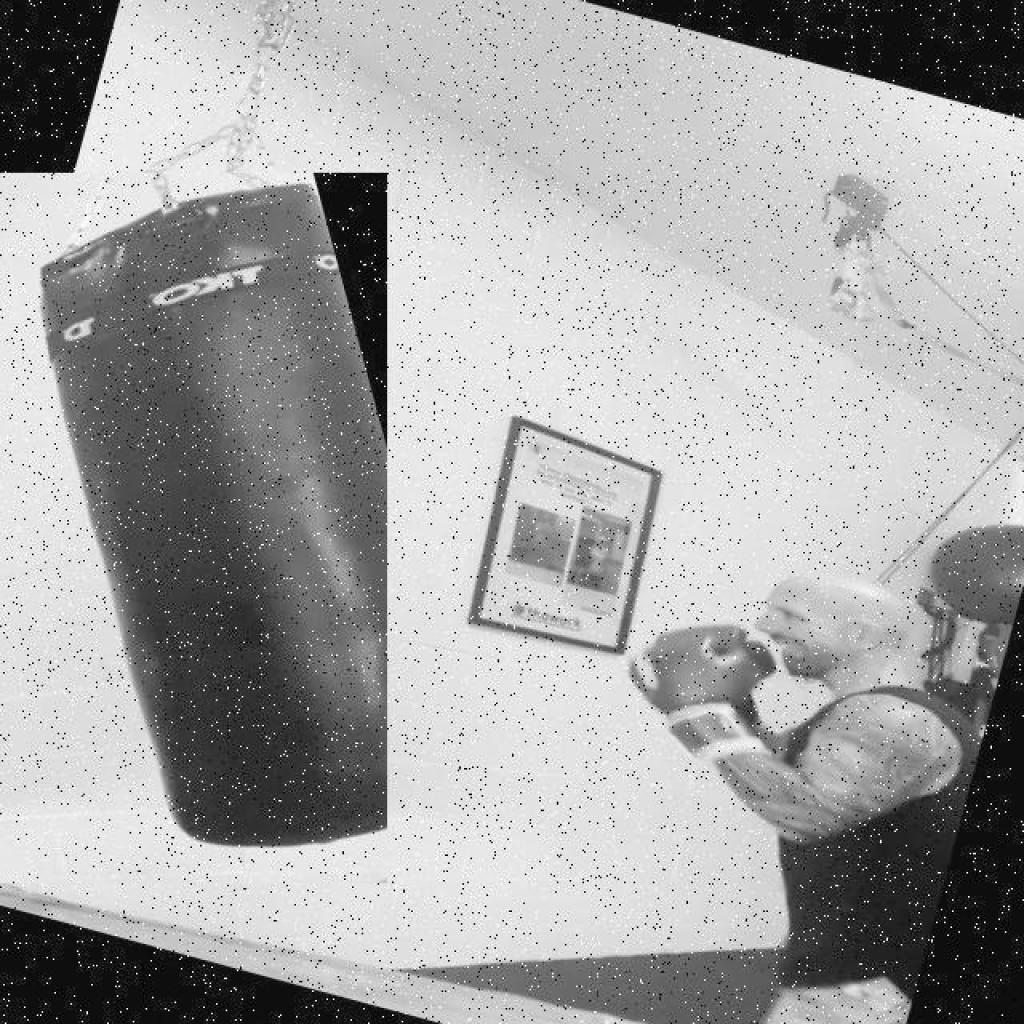bag: (0, 173, 387, 882)
